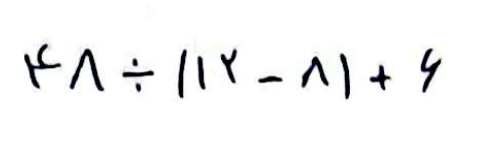character: (24, 42, 62, 90), (69, 48, 106, 92), (122, 58, 155, 93), (300, 55, 331, 88), (420, 46, 442, 91), (219, 47, 238, 84), (177, 47, 189, 99), (339, 52, 352, 100), (369, 64, 392, 91), (196, 55, 206, 91), (257, 75, 286, 86)
